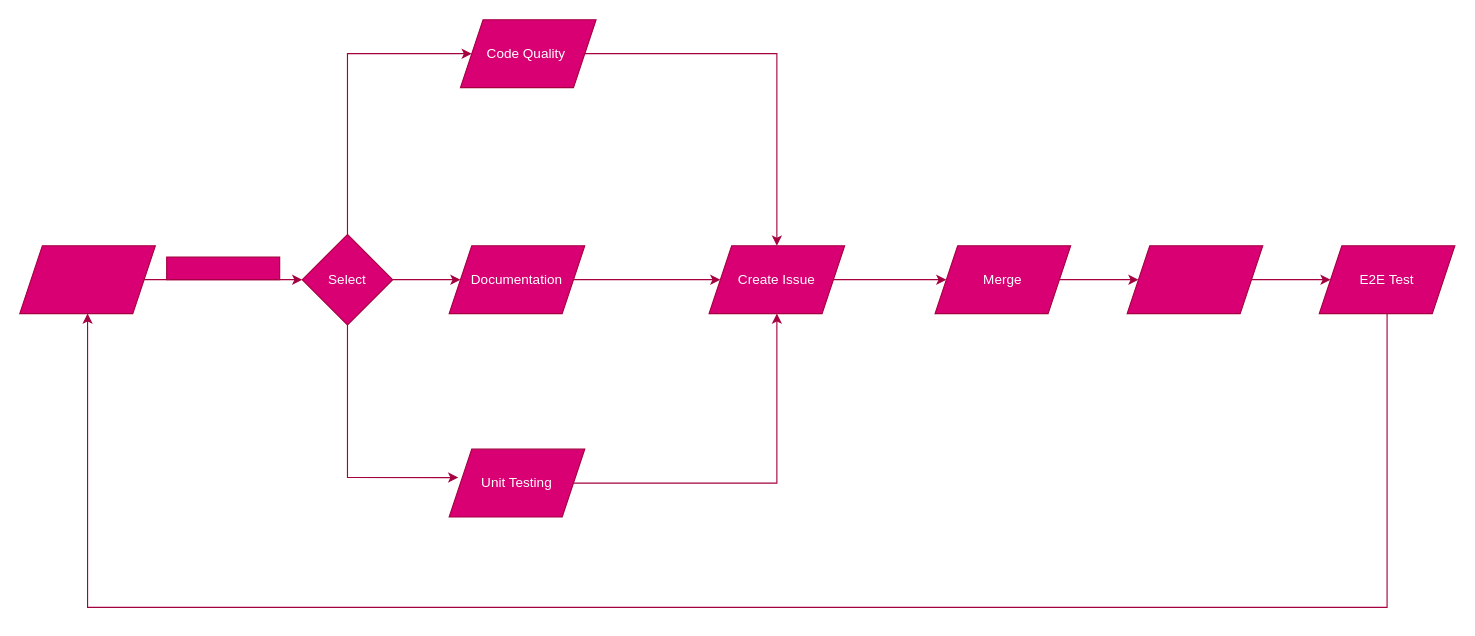
Image size: 1475x636. Some labels were removed from this diagram. Here are the shapes that lost their labels. From the top down, the box of each, then its label:
(19, 245, 155, 314): Git Push
(166, 256, 280, 280): Github Action
(1126, 245, 1263, 314): Deploy
